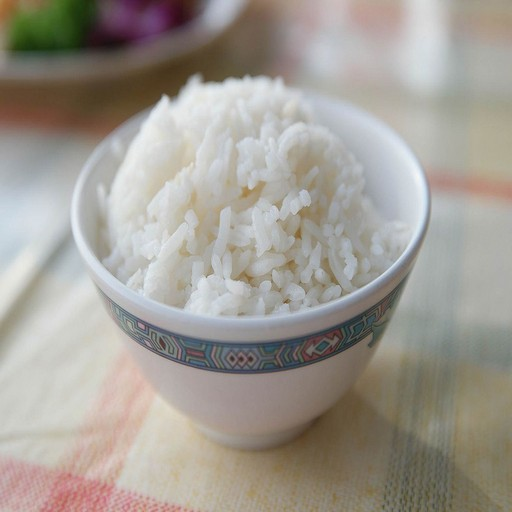rice: (149, 117, 334, 295)
